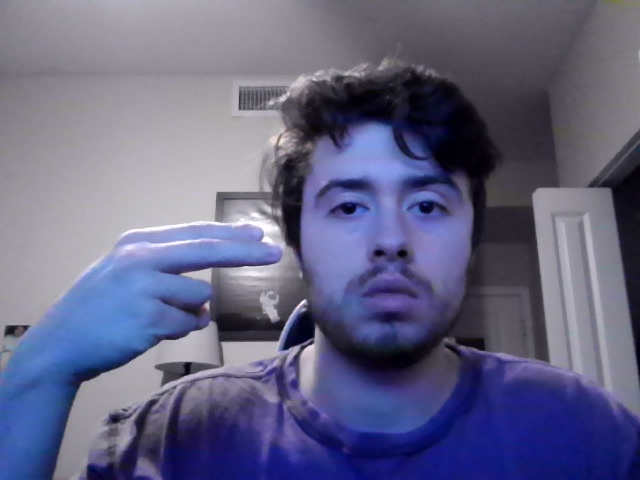h: (11, 220, 284, 398)
